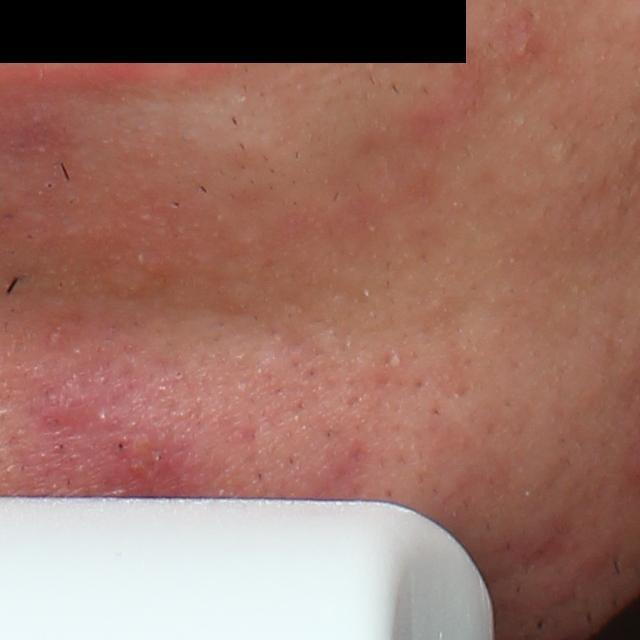comedo: (172, 369, 185, 381)
papule: (41, 383, 103, 426), (512, 15, 540, 59)
